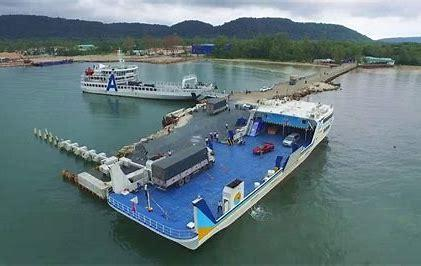Ship: (109, 101, 336, 250), (82, 53, 216, 101)
